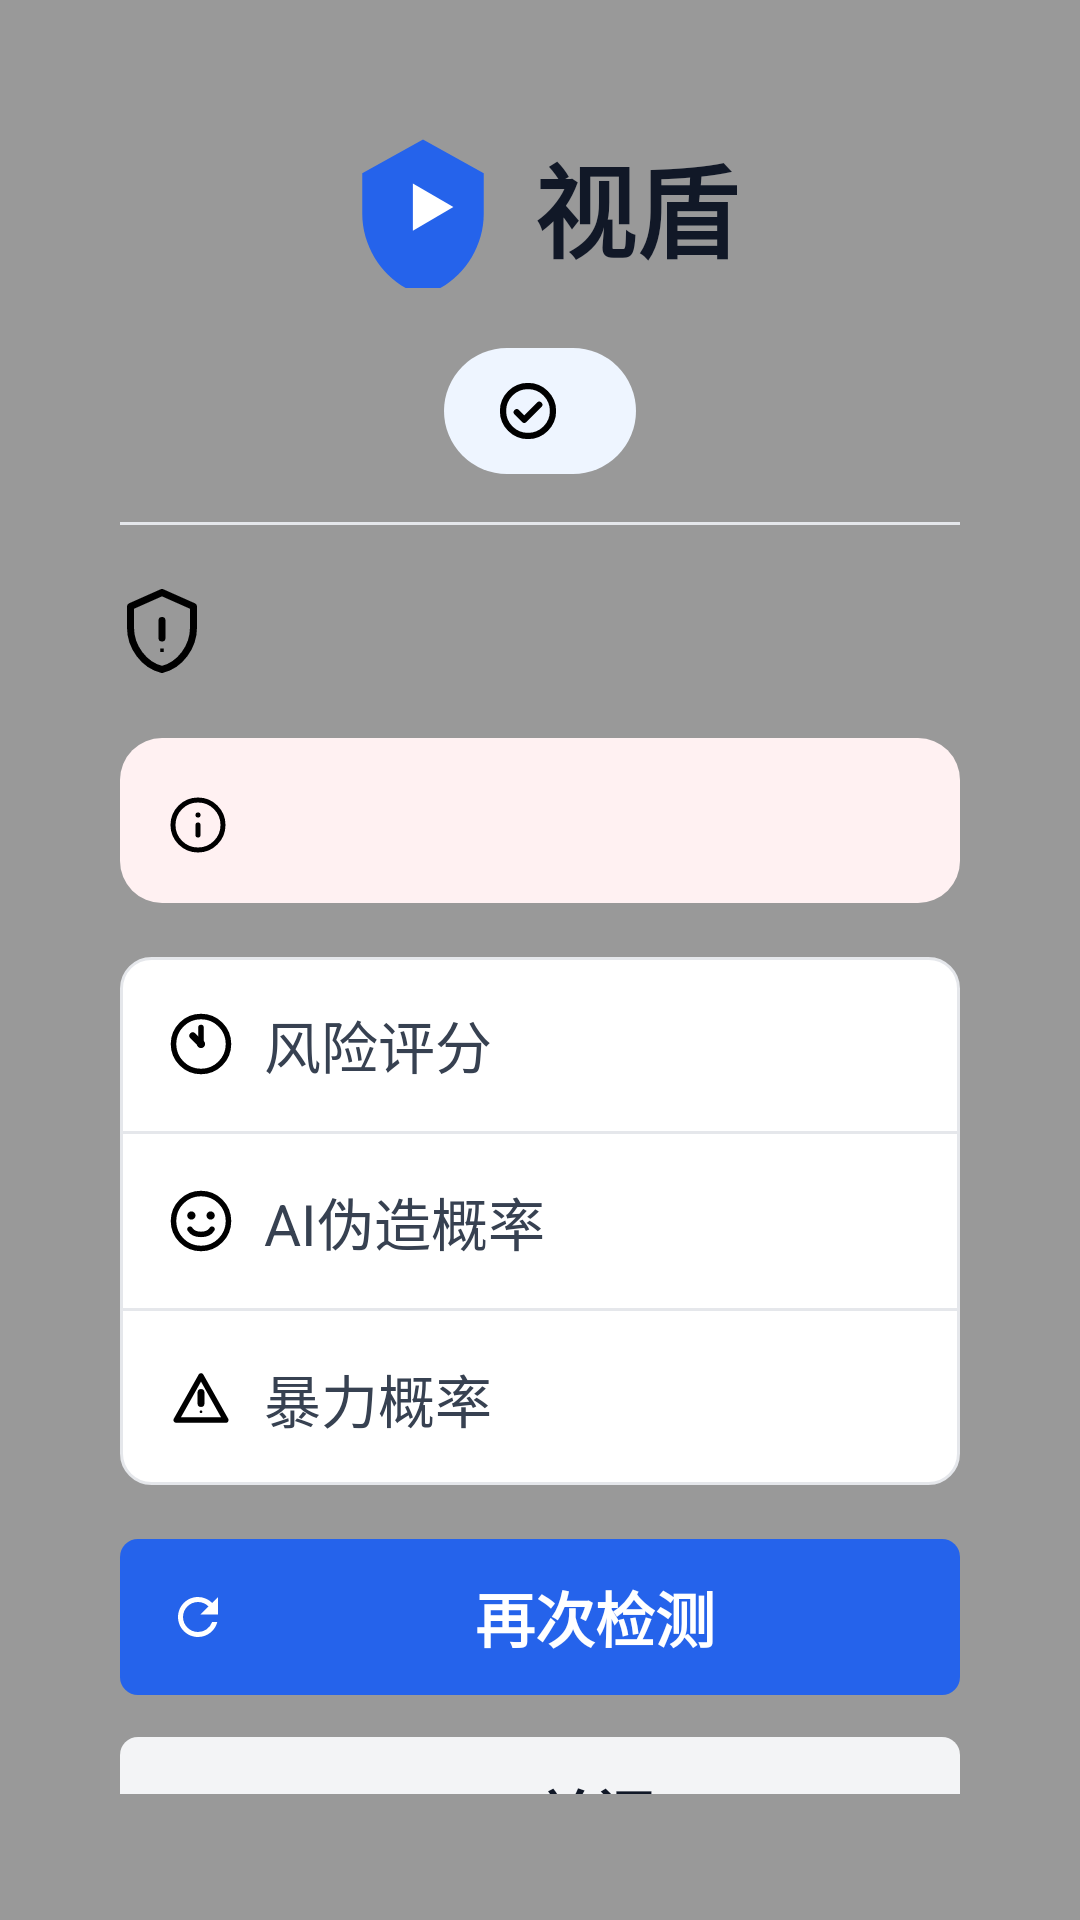

Named icons in this screenshot (1080px x 1920px) and their centers, point (x, y):
check mark: point (528, 411)
clock: point (201, 1044)
face: point (201, 1221)
info circle: point (198, 825)
shield play: point (423, 213)
warning shield: point (162, 631)
